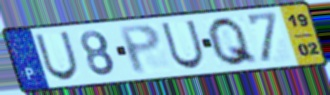7: (246, 11, 281, 66)
8: (79, 29, 118, 78)
P: (116, 22, 163, 76)
Q: (206, 15, 261, 69)
U: (33, 30, 81, 83), (159, 19, 207, 71)
